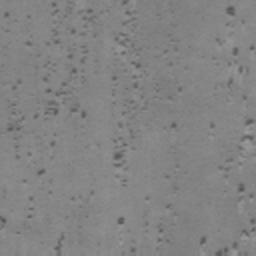Oxide scale of temperature system: (63, 6, 142, 69), (6, 78, 80, 132), (226, 65, 256, 193), (54, 232, 85, 256), (199, 235, 229, 256), (225, 5, 236, 16), (113, 150, 124, 160), (0, 215, 7, 229), (36, 168, 46, 177), (156, 223, 165, 233), (116, 216, 125, 225)
